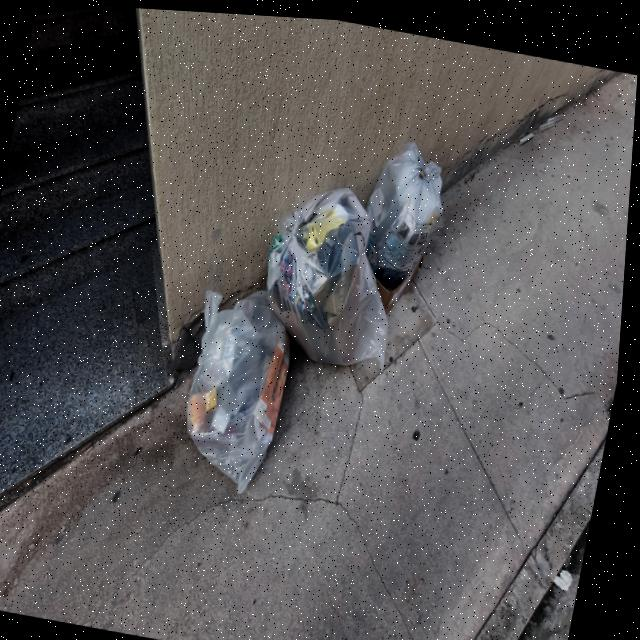Other: (372, 237, 428, 315)
Recycled Waste -Grey or Green Bag-: (254, 171, 420, 367), (176, 275, 307, 498), (356, 129, 457, 281)
